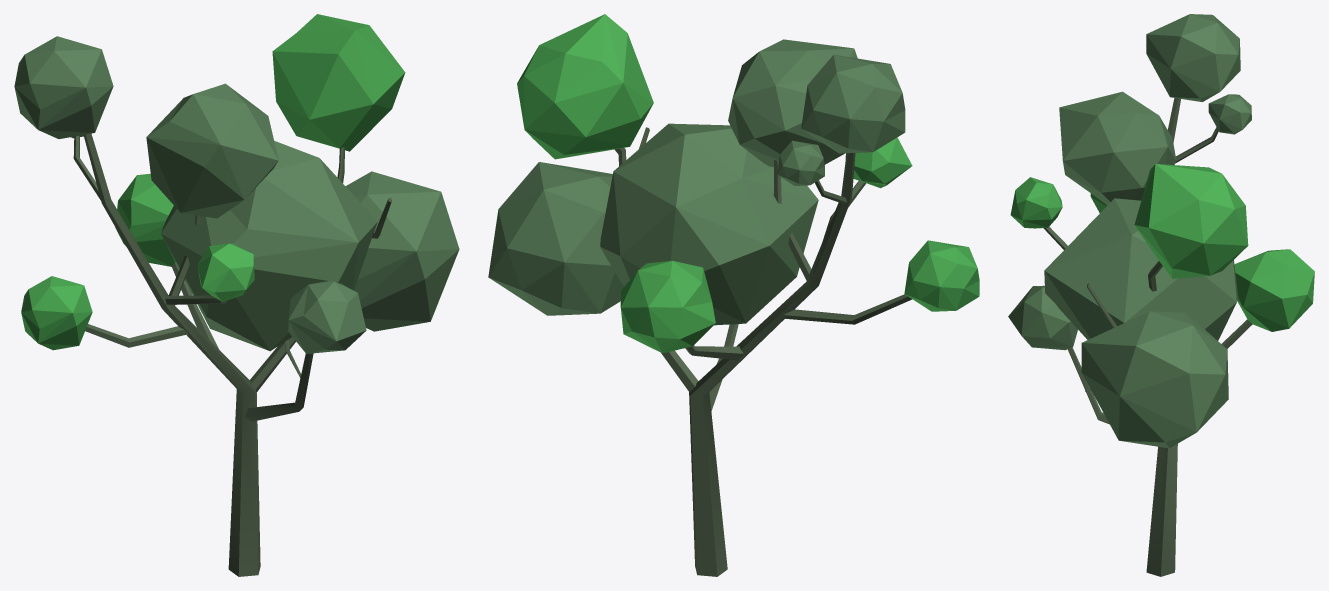
Rendered from birch-tree1.FBX.
3 renders of one model, left to right at view 1: azimuth 30°, elevation 25°; view 2: azimuth 150°, elevation 25°; view 3: azimuth 270°, elevation 25°, orthographic. The views are drawn at different scales.
Visible parts, largest first — view 1: birch-tree1; view 2: birch-tree1; view 3: birch-tree1.
Part boxes in pixels (left/top/right/bottom): birch-tree1: left=14, top=14, right=459, bottom=576; birch-tree1: left=488, top=14, right=979, bottom=576; birch-tree1: left=1008, top=14, right=1314, bottom=576.
Size of the model in its own units: 565 by 684 by 395.
